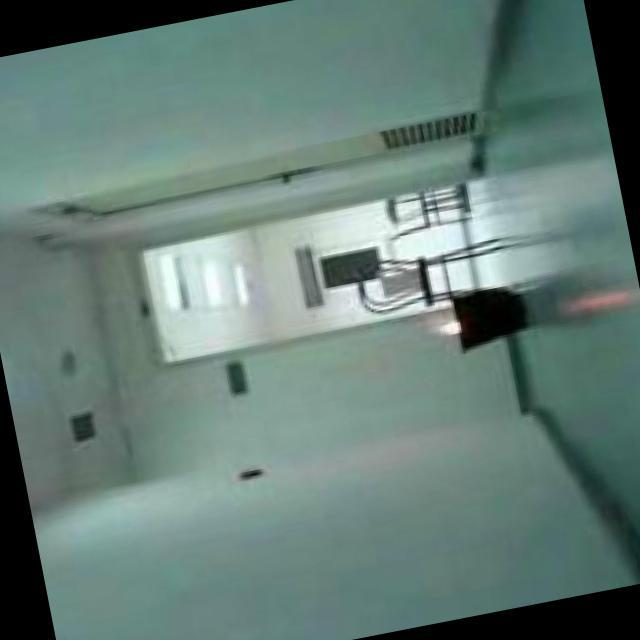Fire: (425, 316, 463, 344)
